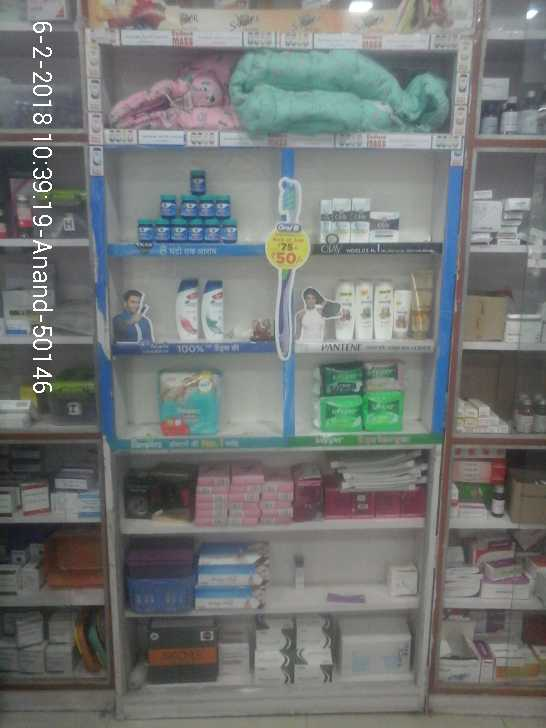beauty: (198, 278, 226, 343), (410, 272, 433, 340), (177, 276, 195, 343), (375, 285, 393, 340), (335, 280, 352, 337), (350, 198, 371, 244), (331, 197, 351, 245), (355, 283, 372, 338), (372, 209, 400, 239), (393, 291, 410, 337), (320, 197, 331, 247)
pharmacy: (154, 365, 222, 437), (315, 392, 364, 434), (363, 387, 404, 430), (361, 359, 409, 392), (314, 358, 361, 391), (188, 161, 209, 195), (153, 210, 172, 245), (136, 214, 157, 243), (156, 192, 176, 217), (214, 192, 231, 217), (172, 219, 188, 243), (177, 195, 196, 214), (200, 195, 215, 219), (190, 220, 205, 244), (220, 219, 237, 240), (206, 219, 220, 244)
